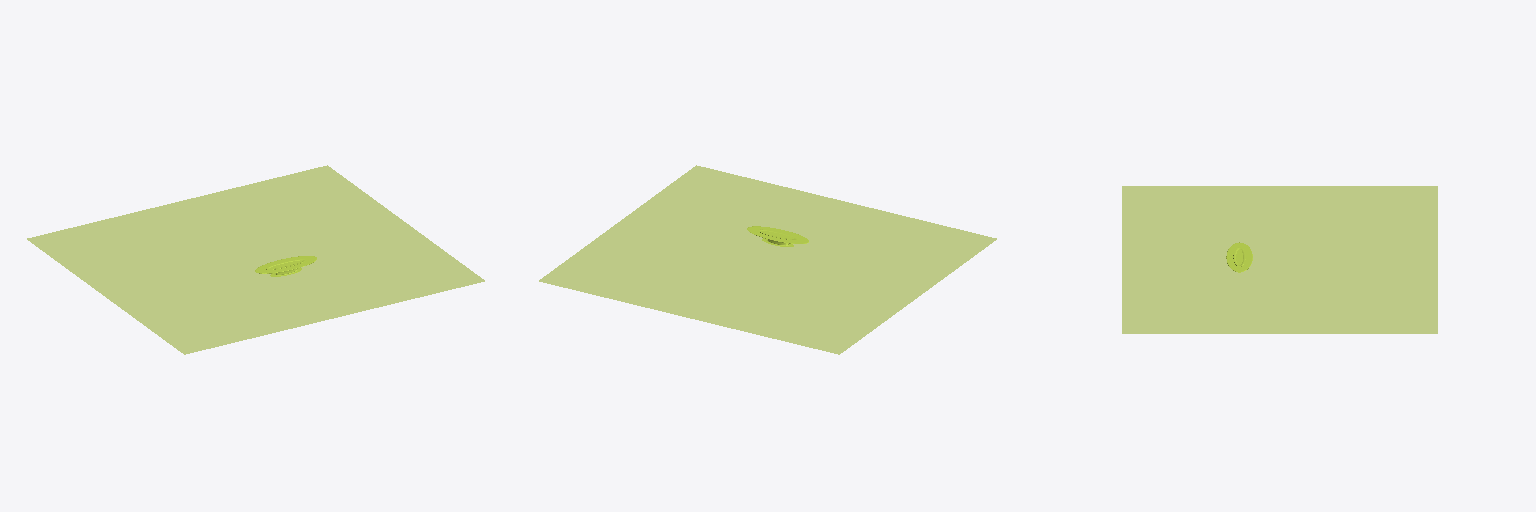
The model's file is table.obj.
The picture shows the model from 3 angles: view 1: azimuth 30°, elevation 25°; view 2: azimuth 150°, elevation 25°; view 3: azimuth 270°, elevation 25°; orthographic projection.
Visible parts, largest first — view 1: Plane01; view 2: Plane01; view 3: Plane01.
Part boxes in pixels (x1,y1,x2,y2): Plane01: (27,165,484,354); Plane01: (539,165,996,354); Plane01: (1122,186,1437,333).
Bounding box in the file's own units: 525 × 15.47 × 478.